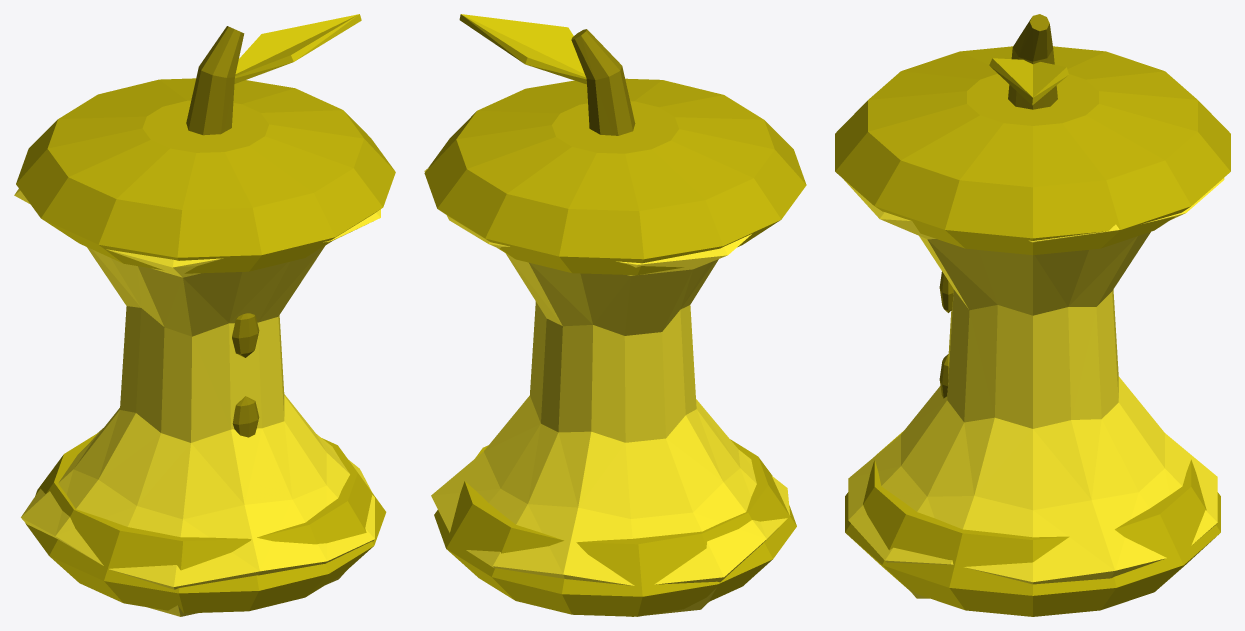
The model's file is Food_AppleCore.fbx.
3 views of the same model, side by side, from view 1: azimuth 30°, elevation 25°; view 2: azimuth 150°, elevation 25°; view 3: azimuth 270°, elevation 25° (orthographic). The views are drawn at different scales.
Parts seen in each view (by area): view 1: Food_AppleCore; view 2: Food_AppleCore; view 3: Food_AppleCore.
Part boxes in pixels (left/top/right/bottom): Food_AppleCore: left=14, top=14, right=395, bottom=616; Food_AppleCore: left=424, top=14, right=806, bottom=616; Food_AppleCore: left=835, top=14, right=1230, bottom=616.
Bounding box in the file's own units: 56.76 × 86 × 55.33.
